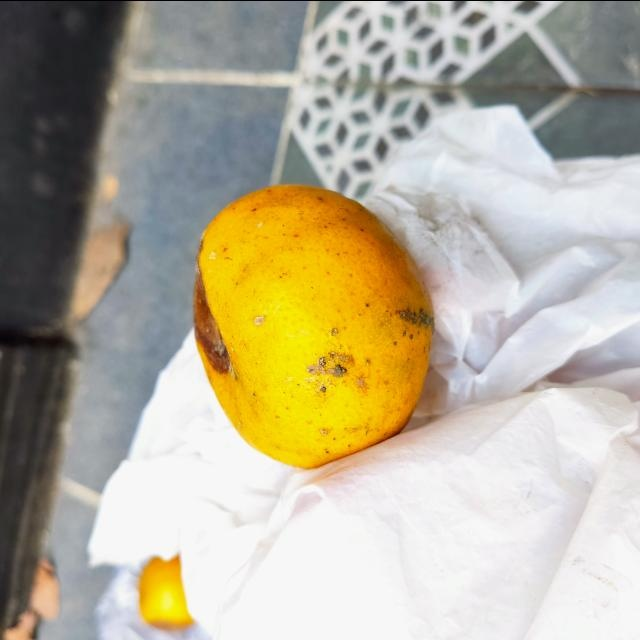agrume: (193, 185, 430, 471)
